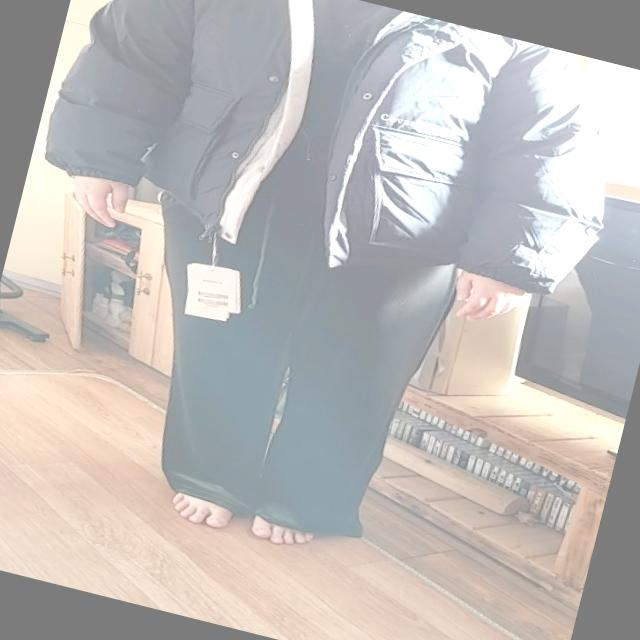padding: (29, 0, 634, 308)
trainingpants: (94, 173, 472, 554)
